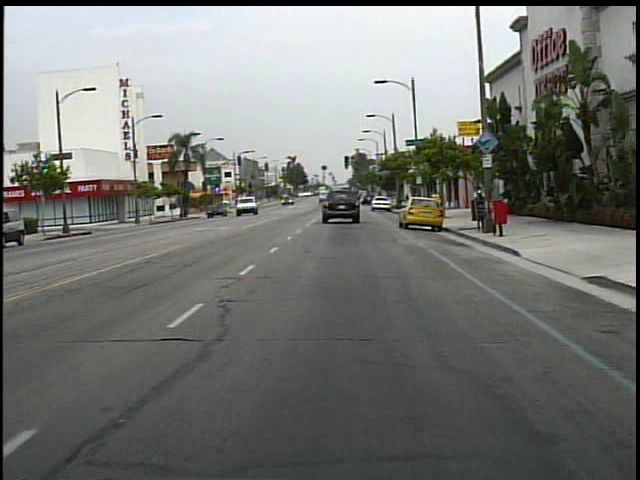person: (468, 184, 489, 222)
